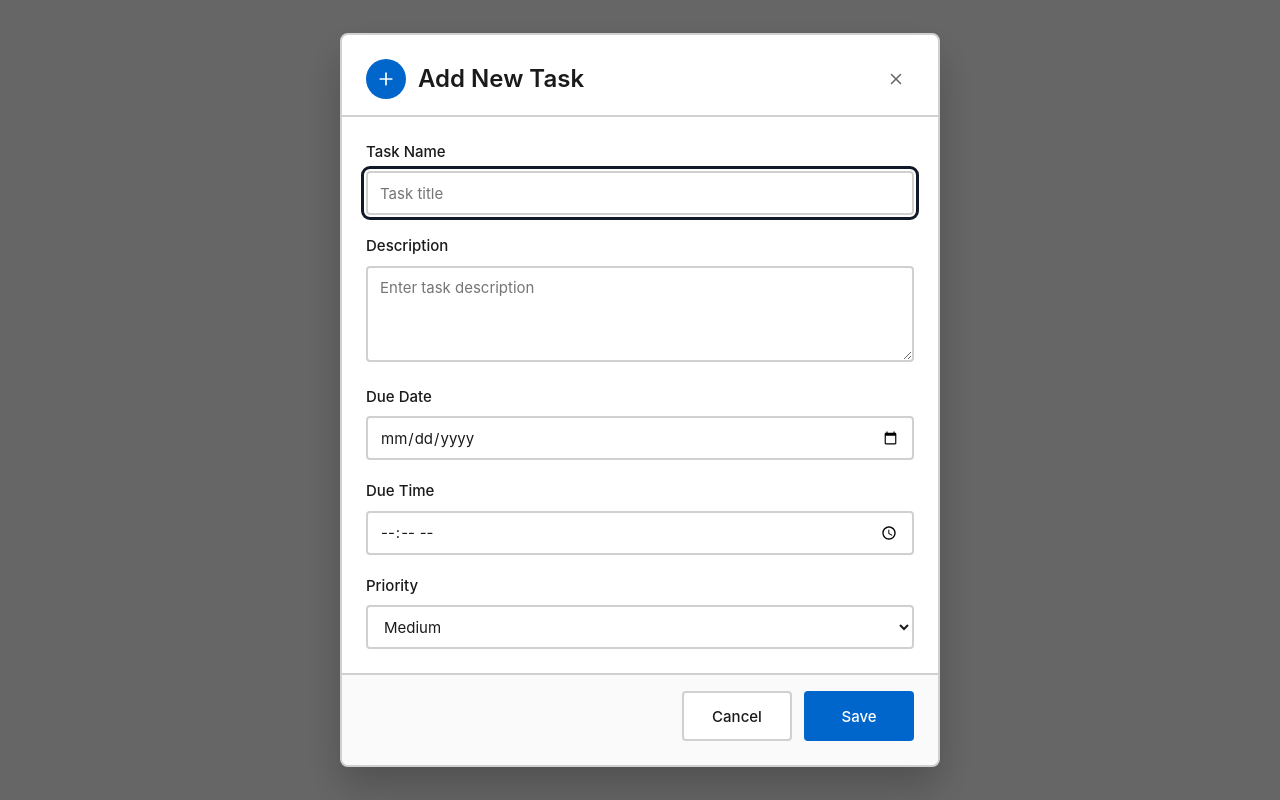
AddTaskModal › shows validation when submitting without date and time
Click the button "Save" at coordinates (859, 716), box [804, 691, 914, 741]
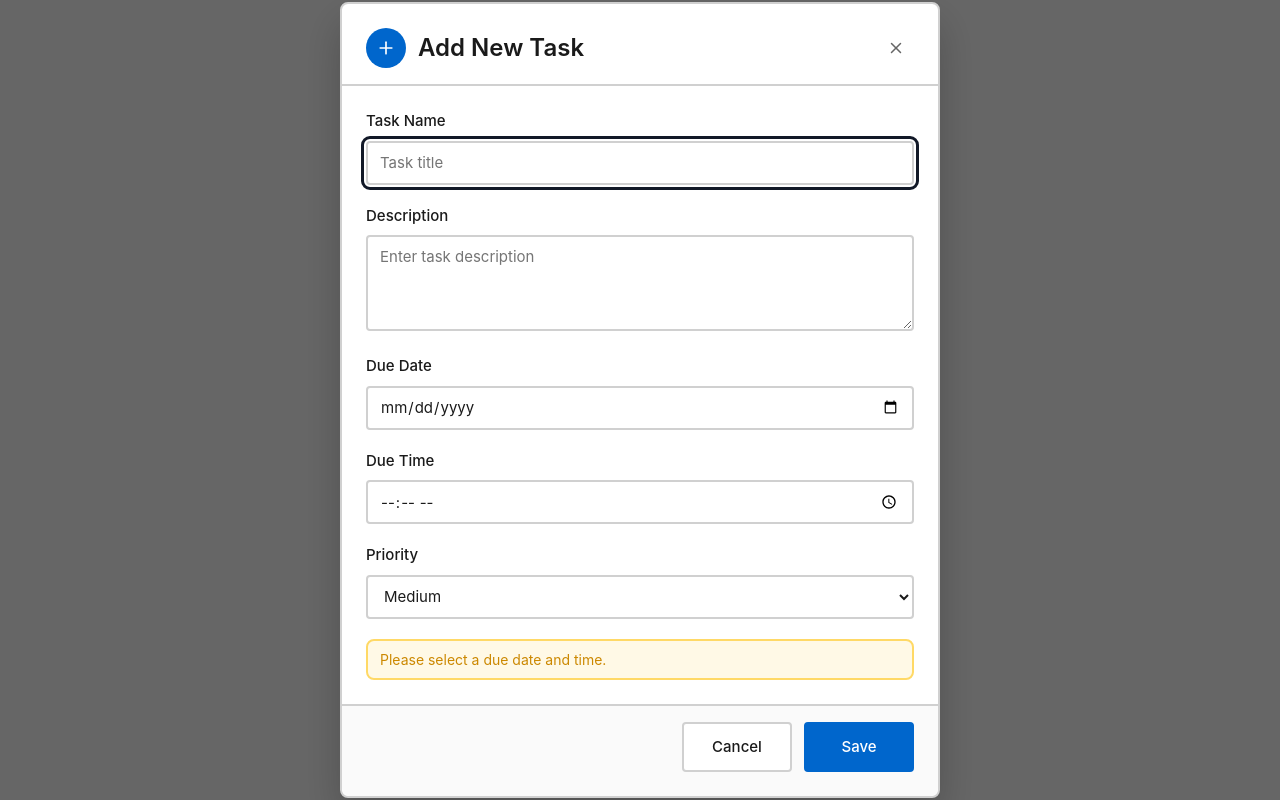
Check: the text "Please select a due date and time." is shown, box [380, 651, 606, 668]
